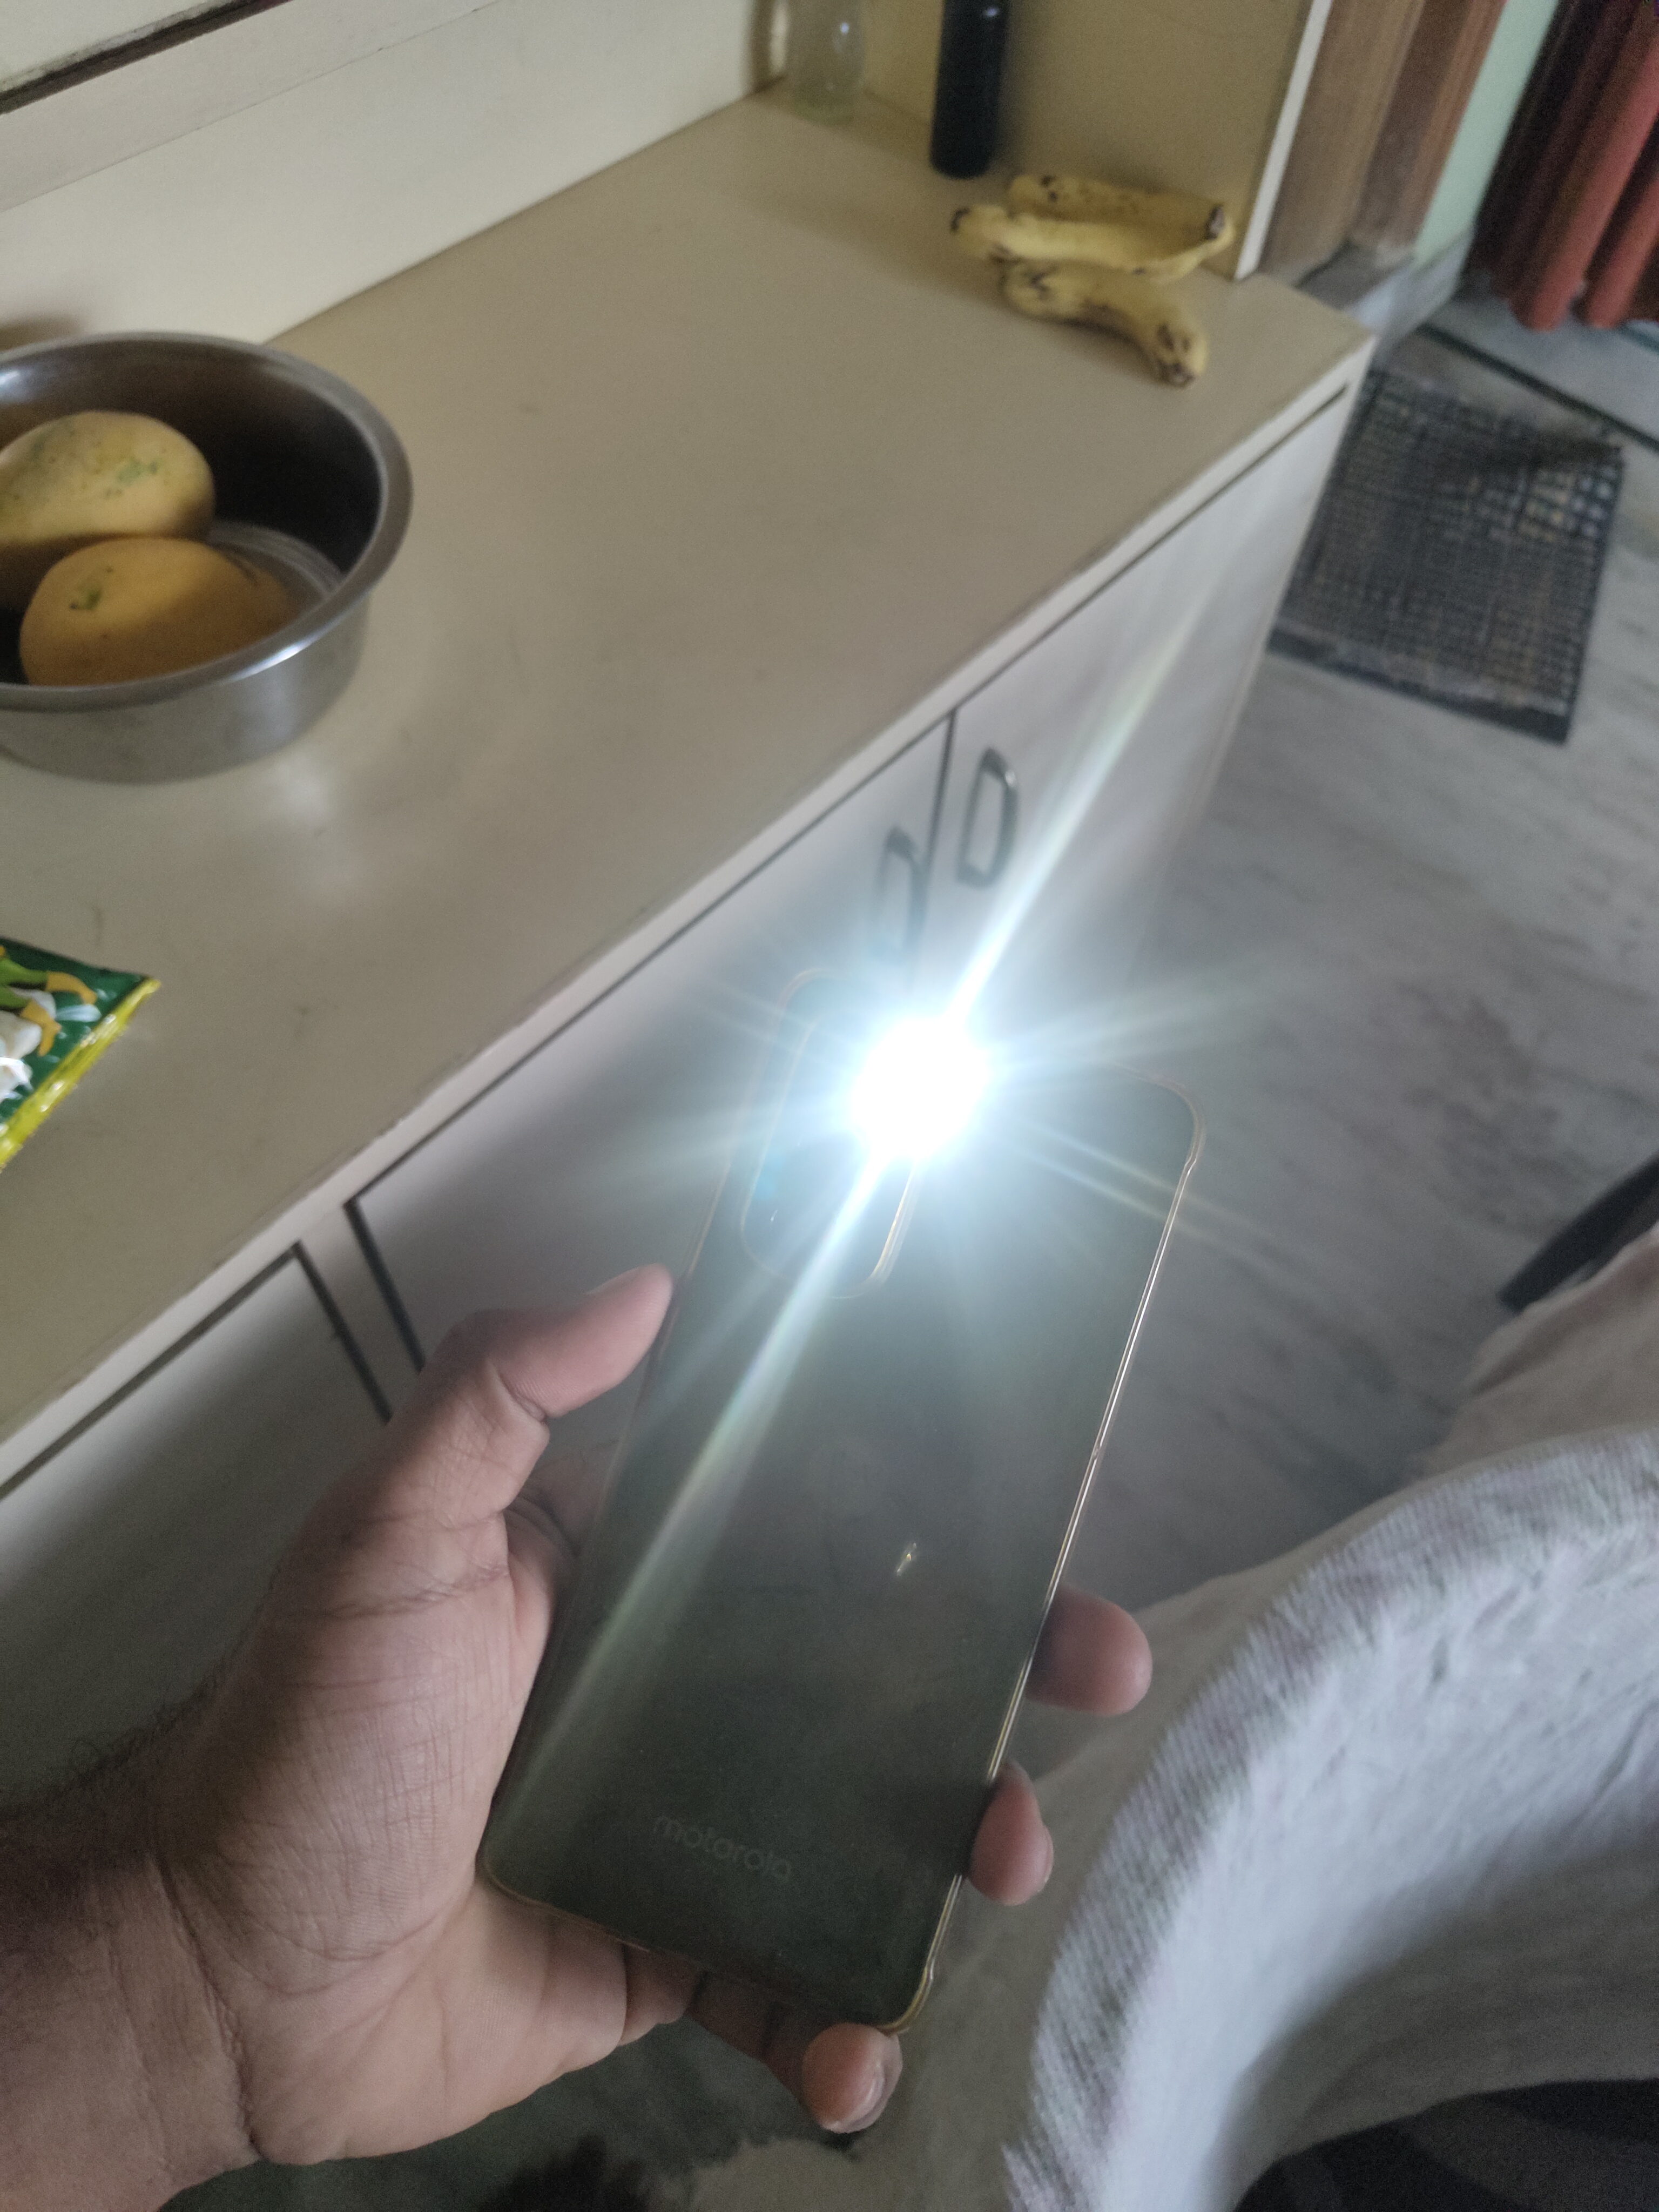Glare: (839, 994, 1027, 1184)
